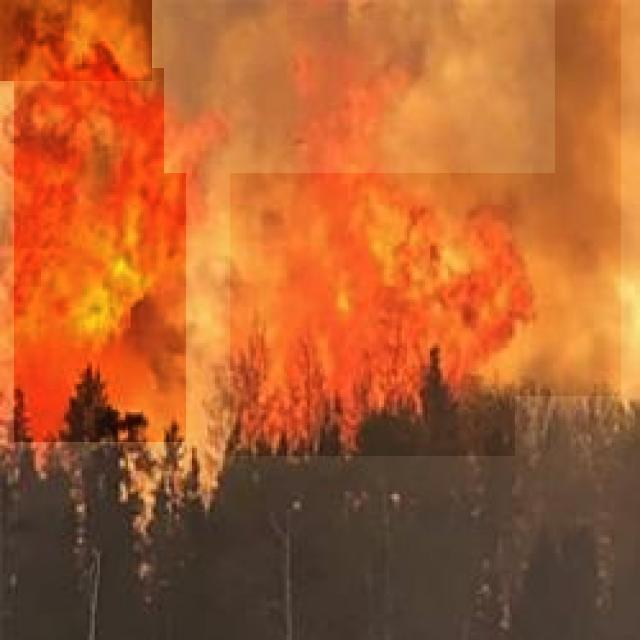Fire: (230, 99, 515, 456), (14, 68, 186, 442)
Smoke: (164, 0, 555, 173), (508, 0, 621, 396), (0, 0, 152, 81)
